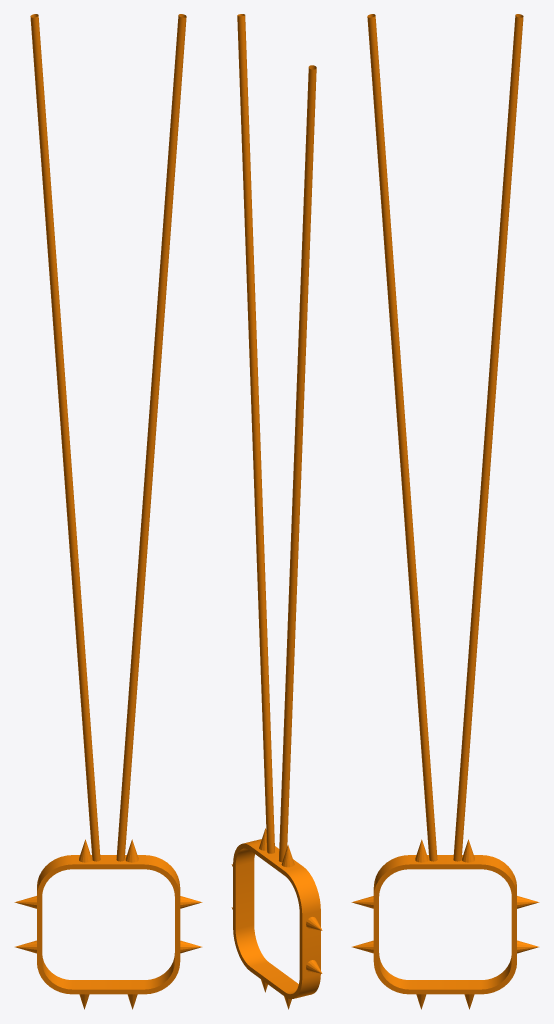
The model's file is cutter6_roundcube.fbx.
The picture shows the model from 3 angles, left to right: view 1: azimuth 90°, elevation 25°; view 2: azimuth 210°, elevation 25°; view 3: azimuth 270°, elevation 25°; orthographic projection. The views are drawn at different scales.
Visible parts, largest first — view 1: Cutter6_Roundcube; view 2: Cutter6_Roundcube; view 3: Cutter6_Roundcube.
Part boxes in pixels (box(x1,y1,x2,y2)): Cutter6_Roundcube: box(14, 14, 202, 1009); Cutter6_Roundcube: box(231, 14, 322, 1009); Cutter6_Roundcube: box(351, 14, 539, 1009).
Bounding box in the file's own units: 16.81 × 827 × 142.
